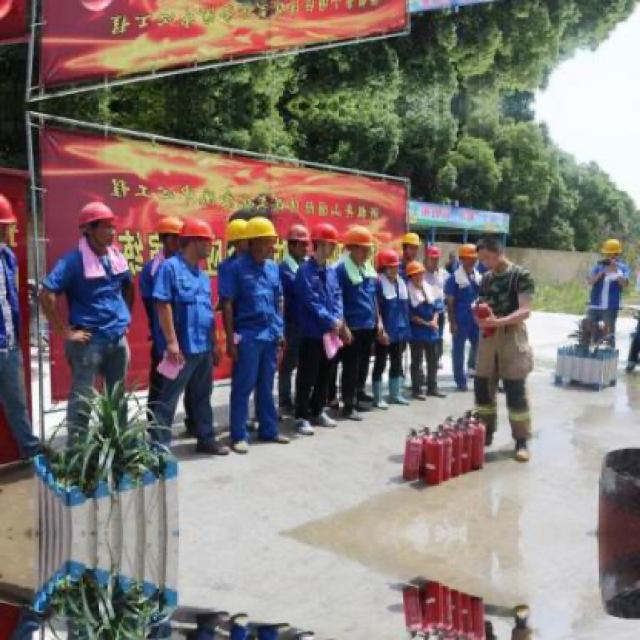helmet: (80, 197, 120, 250), (246, 213, 280, 262), (181, 218, 214, 266), (343, 224, 375, 264), (157, 215, 186, 258), (309, 224, 340, 264), (225, 216, 248, 256), (2, 192, 15, 252), (288, 223, 309, 260), (377, 247, 401, 279), (78, 0, 120, 17), (459, 242, 483, 270), (600, 238, 625, 262), (405, 258, 426, 286), (403, 230, 423, 258), (1, 0, 17, 23), (428, 247, 443, 271)
